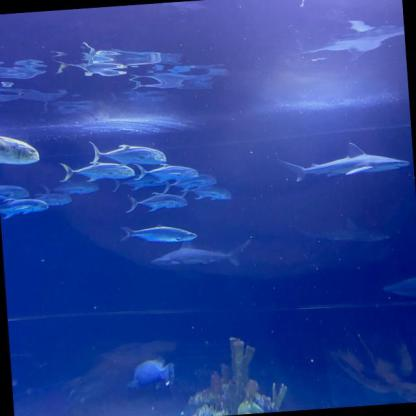fish: (88, 135, 166, 170), (57, 158, 134, 184), (124, 356, 176, 394), (119, 221, 197, 246), (133, 159, 199, 184), (125, 190, 188, 214), (0, 129, 40, 166), (158, 172, 218, 195), (0, 195, 49, 220), (41, 177, 100, 197), (111, 172, 165, 193), (178, 184, 232, 203), (0, 180, 30, 202), (35, 191, 72, 207)
shark: (276, 139, 410, 182), (149, 237, 253, 273), (295, 214, 389, 248), (382, 276, 416, 302)
